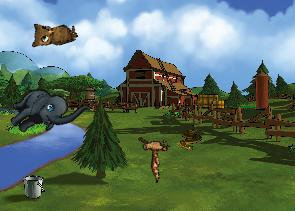eagle: (126, 124, 183, 183)
elephant: (2, 67, 91, 155)
owl: (26, 12, 79, 52)
